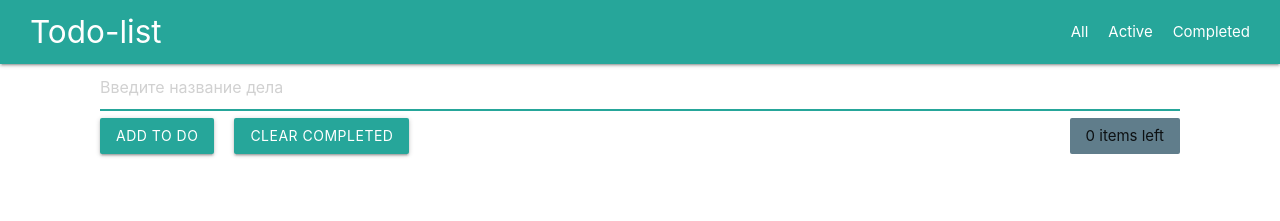
Scenario: TodoListPage Component › adds a new todo item
This screenshot has width=1280, height=221.
Step 1. Type "New Task" into the field with placeholder "Введите название дела" → (640, 87), box [100,64,1180,110]
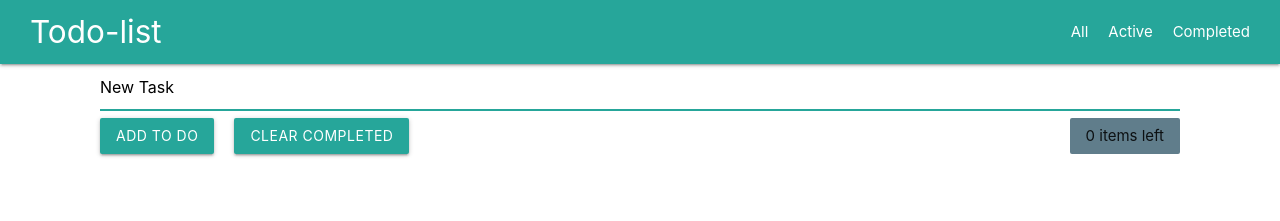
Step 2. Click the button "Add To Do" → (157, 136), box [100,118,214,154]
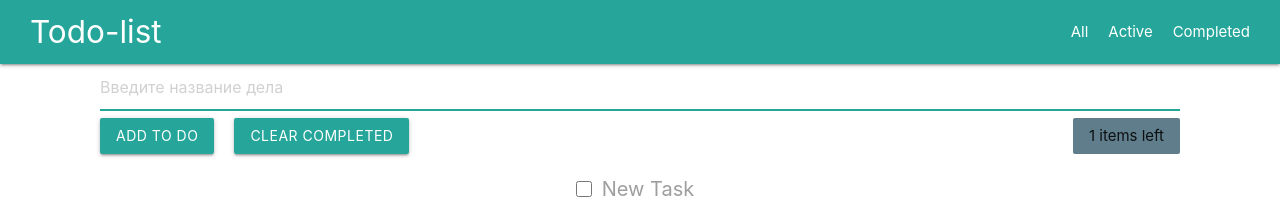
Check: the text "New Task" is shown, box [602,174,694,204]
